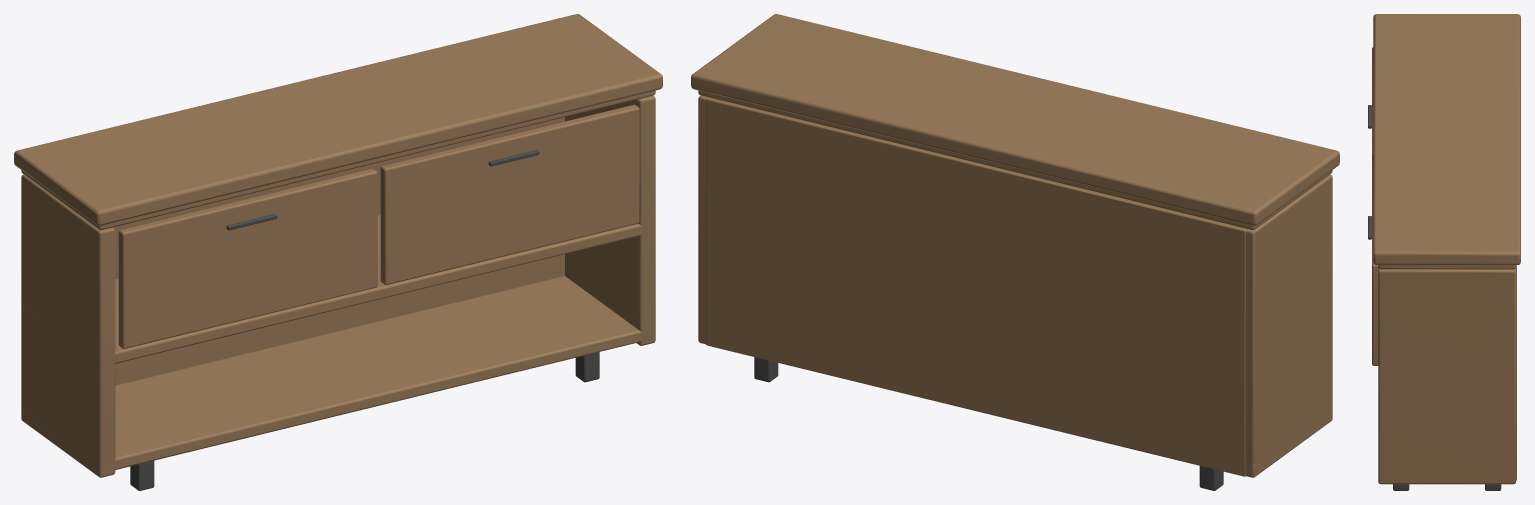
The model's file is EntryStorage.fbx.
3 renders of one model, left to right at view 1: azimuth 30°, elevation 25°; view 2: azimuth 150°, elevation 25°; view 3: azimuth 270°, elevation 25°, orthographic. The views are drawn at different scales.
Visible parts, largest first — view 1: EntryStorage; view 2: EntryStorage; view 3: EntryStorage.
Part boxes in pixels (left/top/right/bottom): EntryStorage: left=14, top=14, right=662, bottom=490; EntryStorage: left=691, top=14, right=1339, bottom=490; EntryStorage: left=1368, top=14, right=1520, bottom=490.
Size of the model in its own units: 1.73 by 0.8775 by 0.466.
